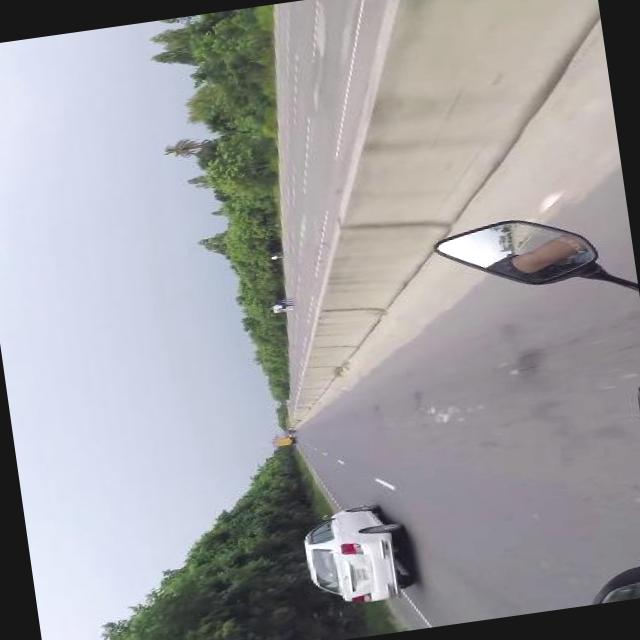car: (298, 496, 419, 610)
truck: (277, 435, 296, 445)
